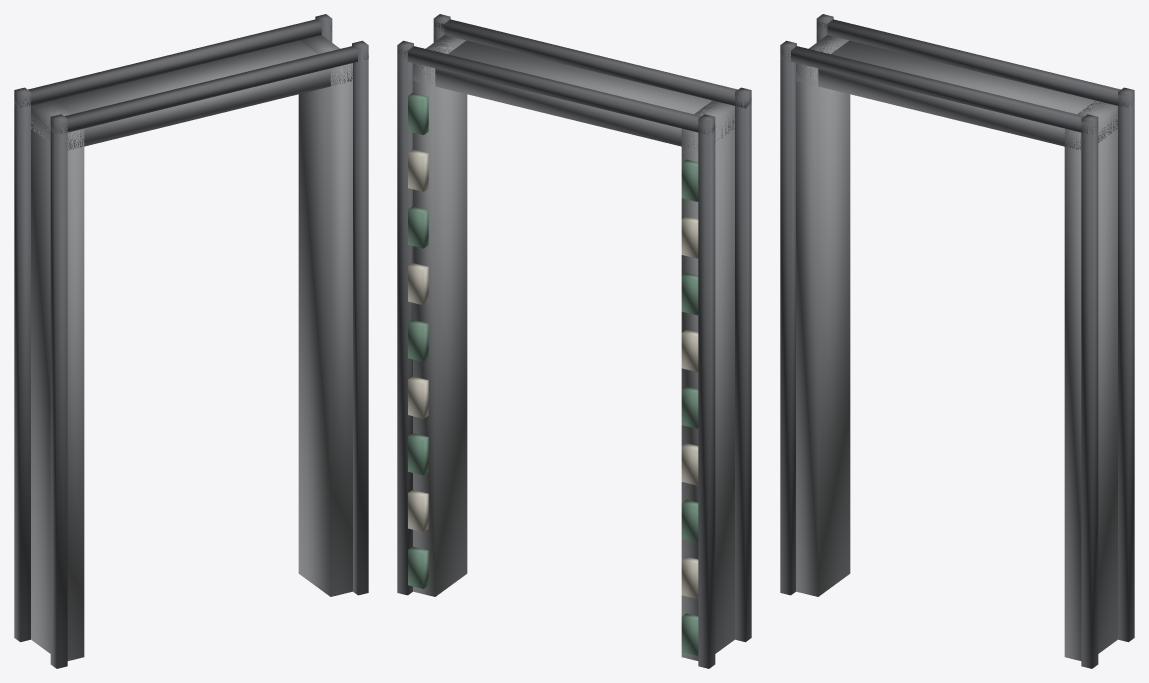
Rendered from doorway_tile_return_w106_h210_d24.glb.
The picture shows the model from 3 angles, left to right: view 1: azimuth 30°, elevation 25°; view 2: azimuth 150°, elevation 25°; view 3: azimuth 330°, elevation 25°; orthographic projection.
Parts seen in each view (by area): view 1: world; view 2: world; view 3: world.
Part boxes in pixels (x1=…): world: x1=14, y1=14, x2=368, y2=668; world: x1=397, y1=14, x2=751, y2=668; world: x1=780, y1=14, x2=1134, y2=668.
Size of the model in its own units: 1.34 by 2.25 by 0.3214.
